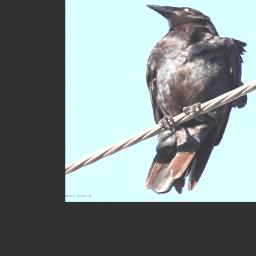Crow: (142, 2, 248, 195)
